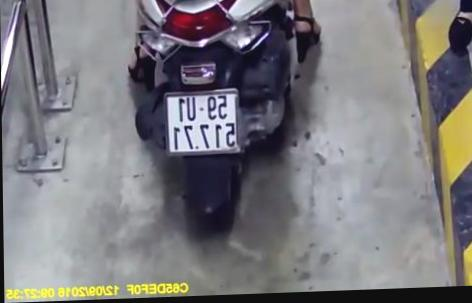License_Plate: (160, 85, 247, 159)
